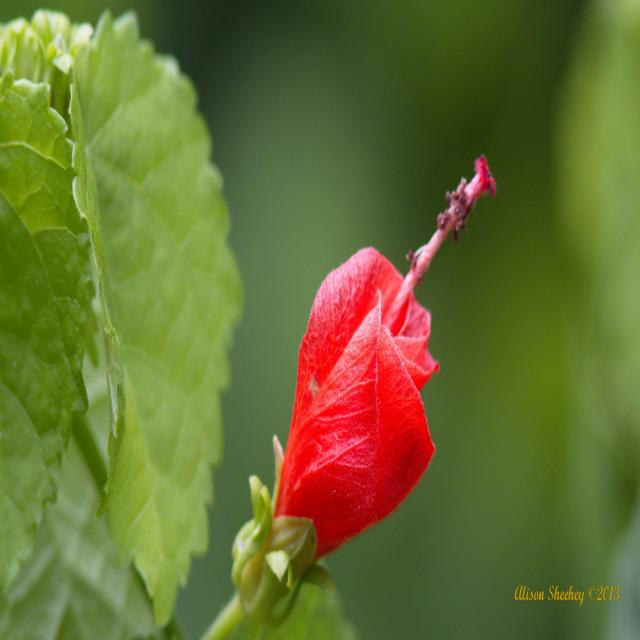Flower: (234, 150, 501, 623)
